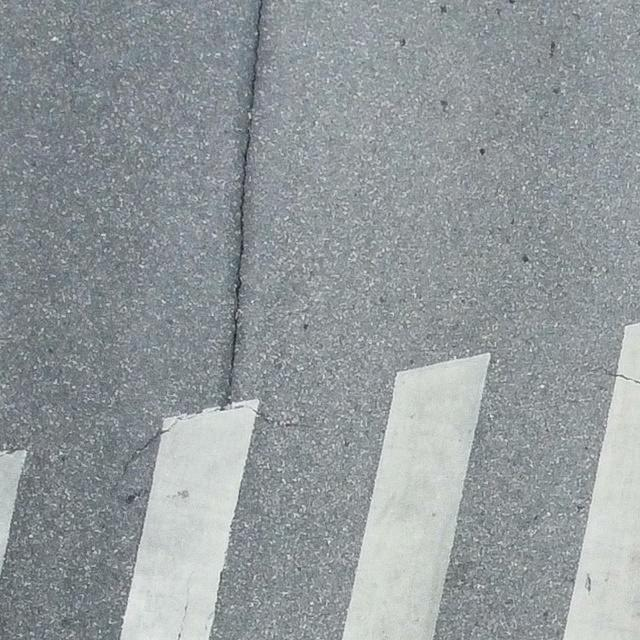LongitudinalCrack: (213, 1, 269, 414)
